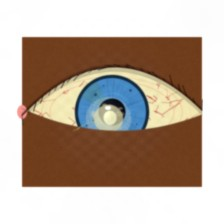corneal_ulcer: (85, 100, 132, 138)
